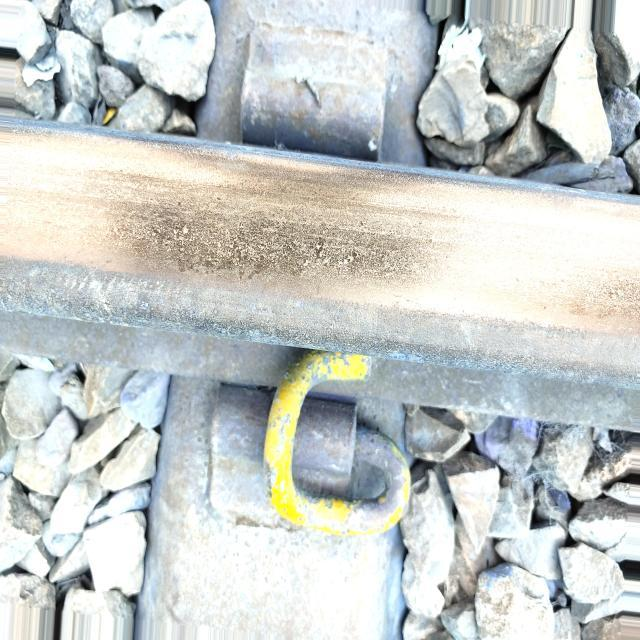Good Fasteners: (199, 341, 418, 571)
Missing Fastener: (240, 11, 398, 181)
